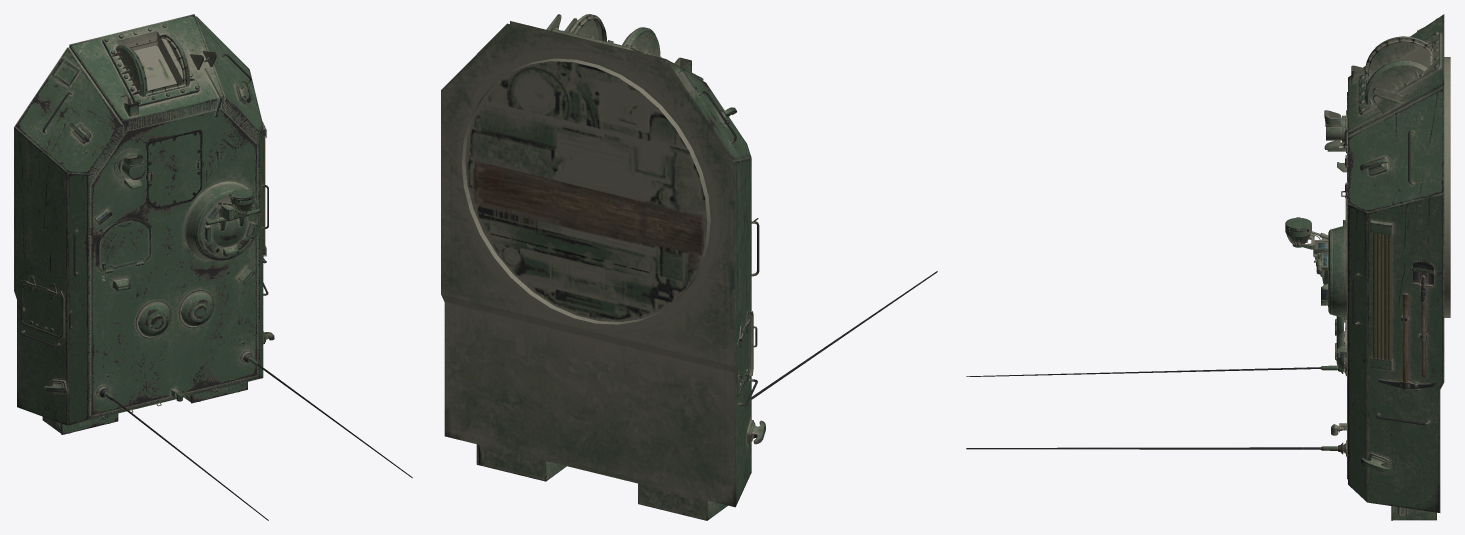
The model's file is Turret_01.glb.
The picture shows the model from 3 angles, left to right: view 1: azimuth 30°, elevation 25°; view 2: azimuth 150°, elevation 25°; view 3: azimuth 270°, elevation 25°; orthographic projection. The views are drawn at different scales.
Visible parts, largest first — view 1: set_0_group_0; view 2: set_0_group_0; view 3: set_0_group_0.
Boxes of the visible parts, x1,y1,x2,y2 form: set_0_group_0: (14, 14, 412, 520); set_0_group_0: (441, 14, 937, 520); set_0_group_0: (966, 14, 1450, 520).
Size of the model in its own units: 2.79 by 4.11 by 4.27.
Materials: 1 (1 with a texture image).
